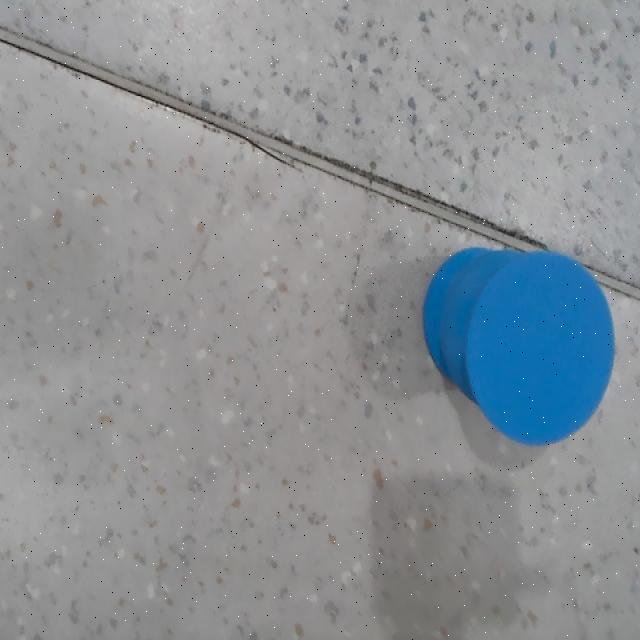b: (468, 253, 616, 445)
